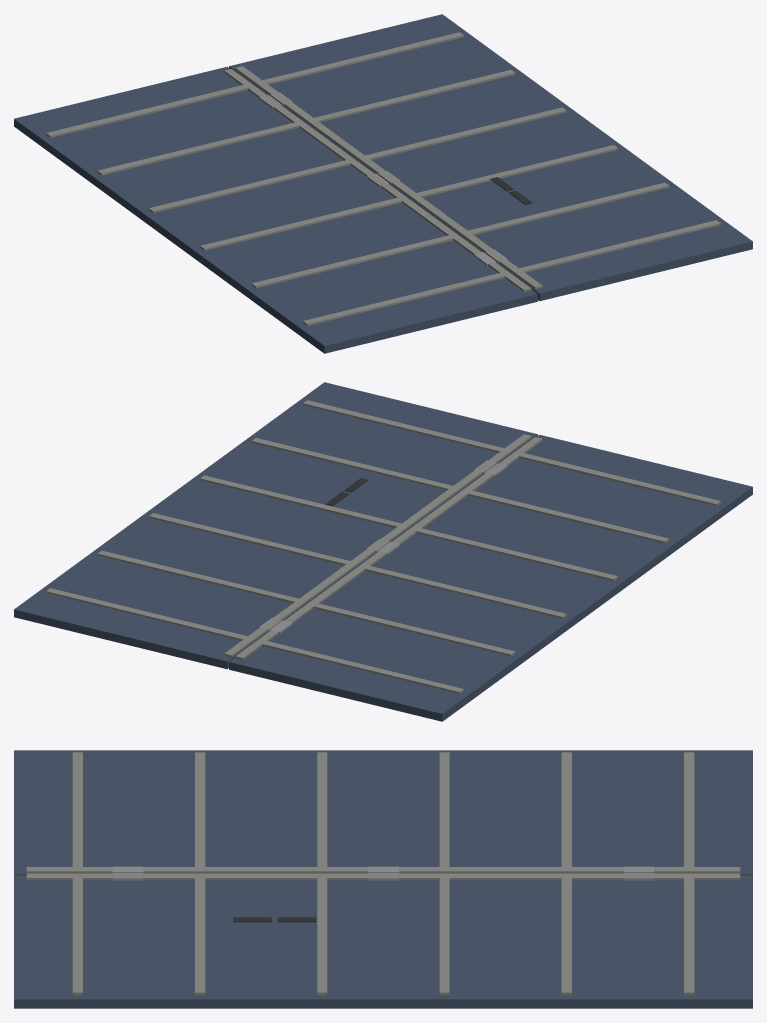
The model's file is ak1_doors.obj.
3 views of the same model, one above another, from view 1: azimuth 30°, elevation 25°; view 2: azimuth 150°, elevation 25°; view 3: azimuth 270°, elevation 25° (orthographic). The views are drawn at different scales.
Parts seen in each view (by area): view 1: ak1_doors; view 2: ak1_doors; view 3: ak1_doors.
Boxes of the visible parts, x1,y1,x2,y2 form: ak1_doors: (14,14,752,353); ak1_doors: (14,382,752,721); ak1_doors: (14,750,752,1008).
Bounding box in the file's own units: 4.61 × 0.109 × 5.78.
